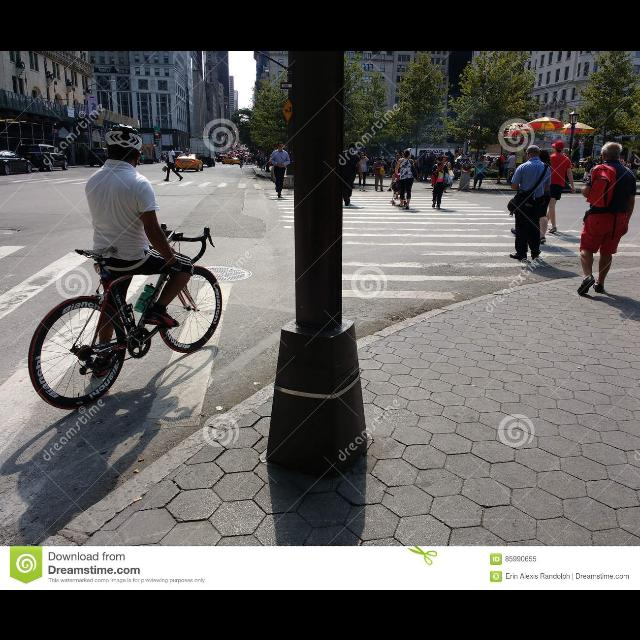head: (106, 136, 142, 168), (601, 141, 621, 163), (525, 144, 541, 160), (538, 149, 550, 163), (552, 140, 566, 152), (348, 141, 356, 151), (404, 149, 411, 157), (278, 142, 284, 150), (437, 156, 443, 162), (397, 152, 403, 158), (360, 153, 366, 159), (480, 155, 486, 161), (378, 156, 382, 162), (420, 149, 424, 155), (169, 146, 173, 150), (512, 150, 516, 154), (589, 156, 593, 160), (632, 152, 636, 156), (466, 158, 470, 162), (457, 159, 461, 163), (445, 157, 449, 161), (504, 152, 506, 156), (241, 154, 243, 156), (488, 156, 490, 158), (484, 156, 486, 158)
person: (85, 120, 182, 378), (576, 139, 638, 295), (510, 143, 552, 261), (510, 146, 552, 244), (541, 137, 577, 233), (338, 142, 364, 206), (394, 147, 416, 209), (431, 154, 453, 210), (270, 140, 290, 198), (387, 150, 407, 192), (162, 144, 184, 182), (440, 155, 456, 193), (472, 154, 488, 190), (356, 151, 369, 191), (372, 155, 386, 191), (582, 155, 596, 183), (496, 152, 508, 184), (507, 150, 517, 184), (416, 148, 424, 182), (462, 156, 472, 178), (452, 157, 462, 179), (486, 154, 494, 170), (482, 154, 488, 170), (238, 154, 244, 168)
